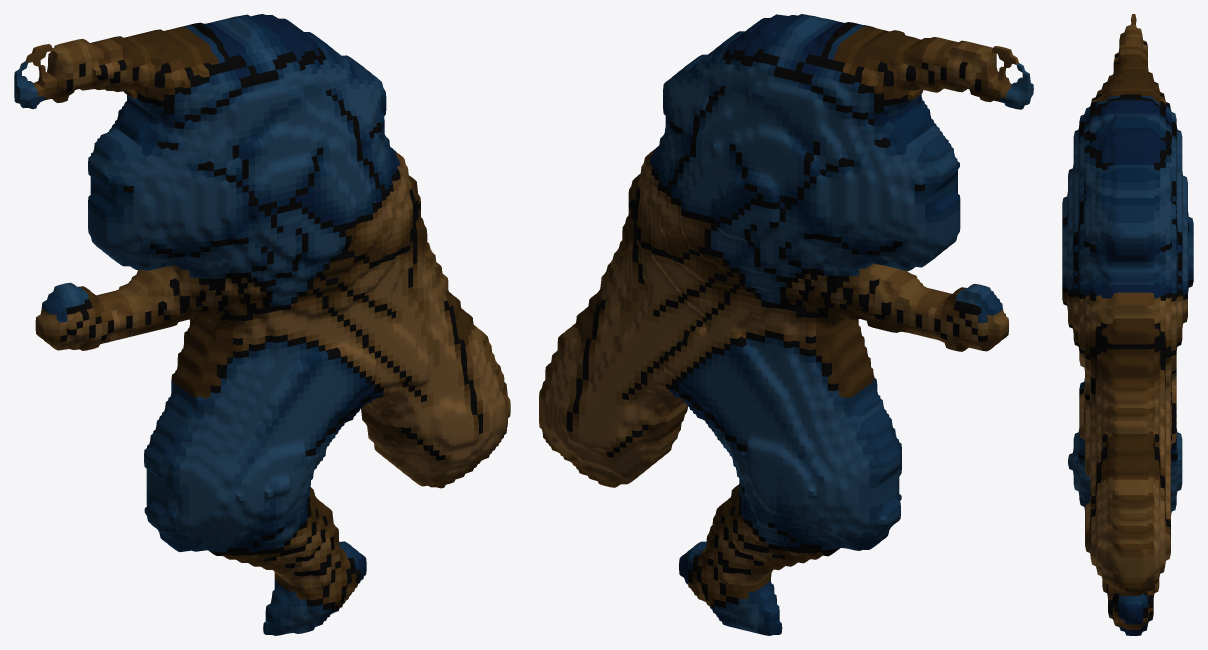
File: Fight_705_2_11.obj
3 views of the same model, side by side, from view 1: azimuth 30°, elevation 25°; view 2: azimuth 150°, elevation 25°; view 3: azimuth 270°, elevation 25° (orthographic). The views are drawn at different scales.
Size of the model in its own units: 7.8 by 9.88 by 2.3.
1 material, 1 textured.
